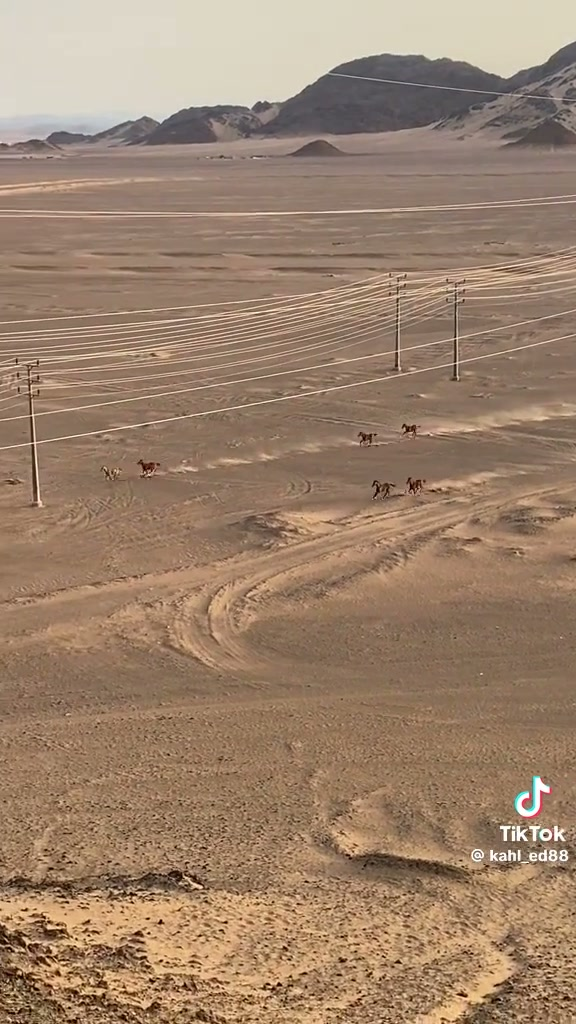animal: (372, 480, 395, 499), (137, 460, 159, 476), (406, 477, 425, 494), (100, 466, 120, 481), (357, 431, 377, 445), (401, 423, 419, 437)
vehicle_track: (169, 487, 555, 674), (39, 481, 134, 536)
